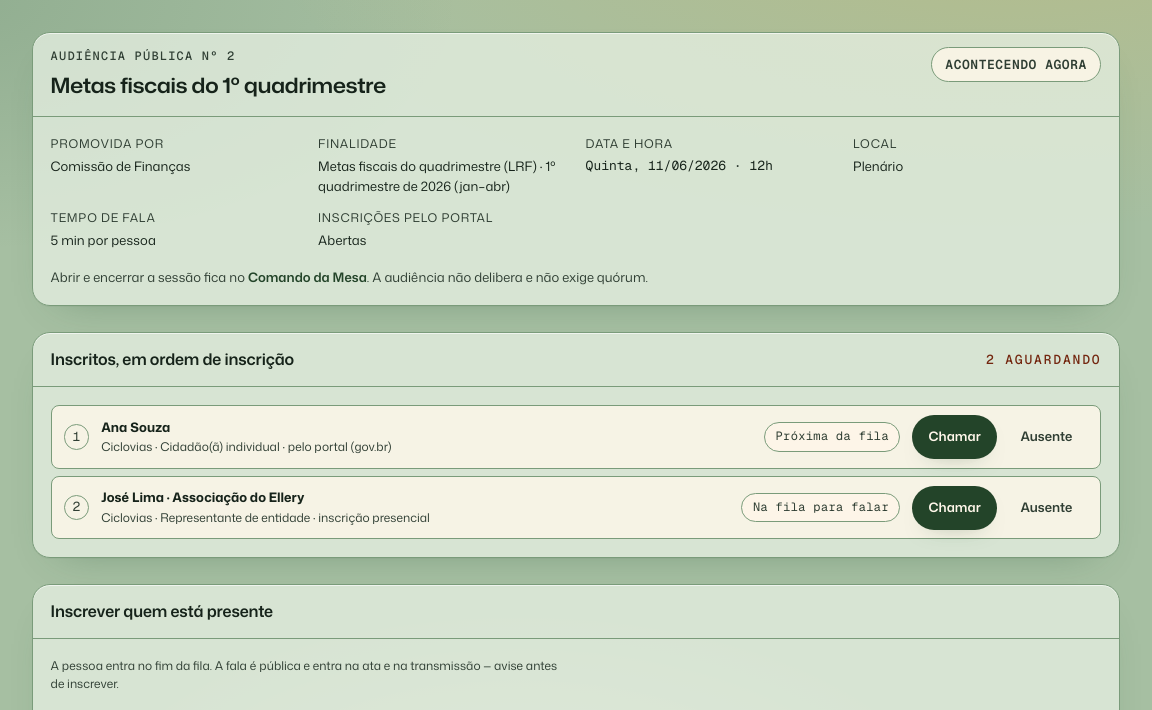
Test: Mesa da audiência pública › recusa do servidor vira frase: 409 com o motivo dele
The width and height of the screenshot is (1152, 710).
Click the button with aria-label "Chamar Ana Souza" at (955, 437), box [912,415,997,459]
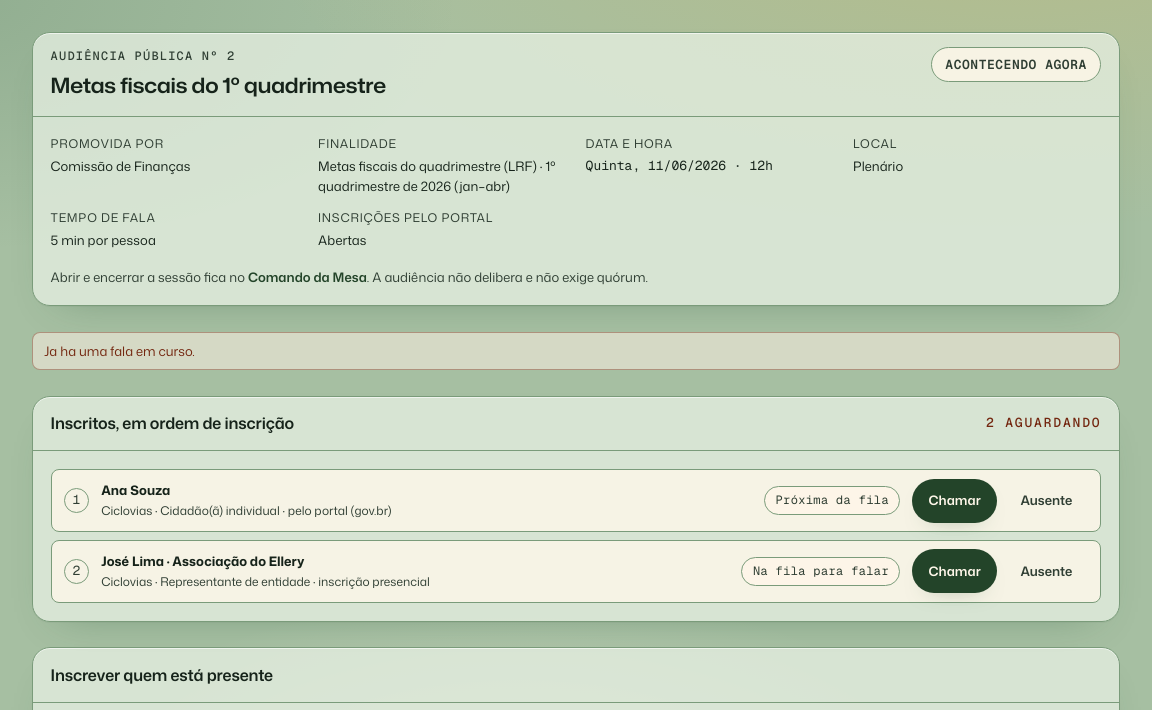
Expected: the message reads "Ja ha uma fala em curso.", [44,342,195,360]
